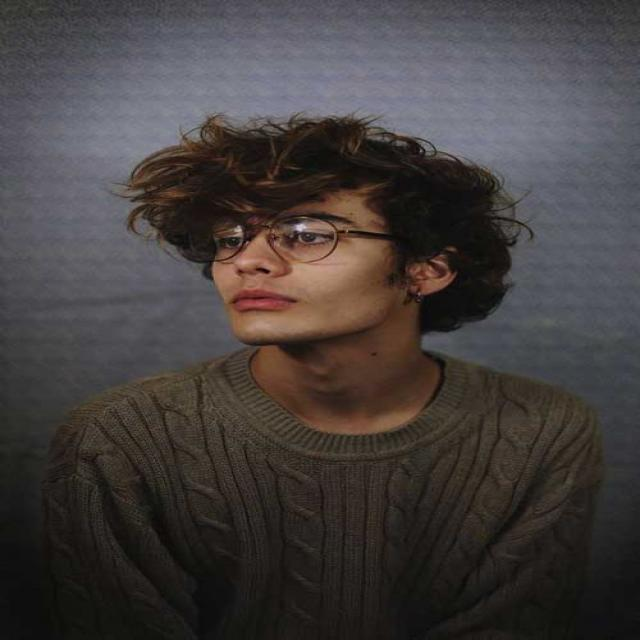earlobe: (408, 279, 429, 296)
eye: (294, 231, 331, 245), (220, 236, 242, 248)
nose: (234, 265, 272, 285)
wholeear: (408, 245, 460, 296)
